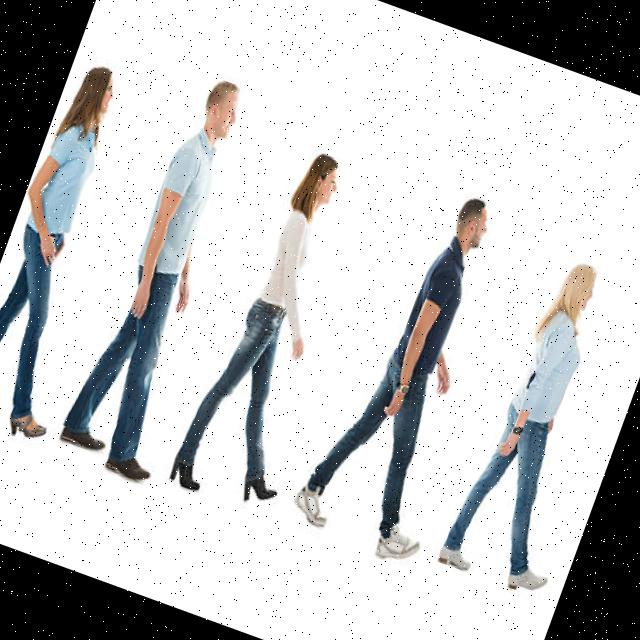Person: (286, 172, 540, 570), (56, 68, 286, 484), (167, 142, 392, 518), (436, 248, 640, 600), (0, 57, 171, 446)
